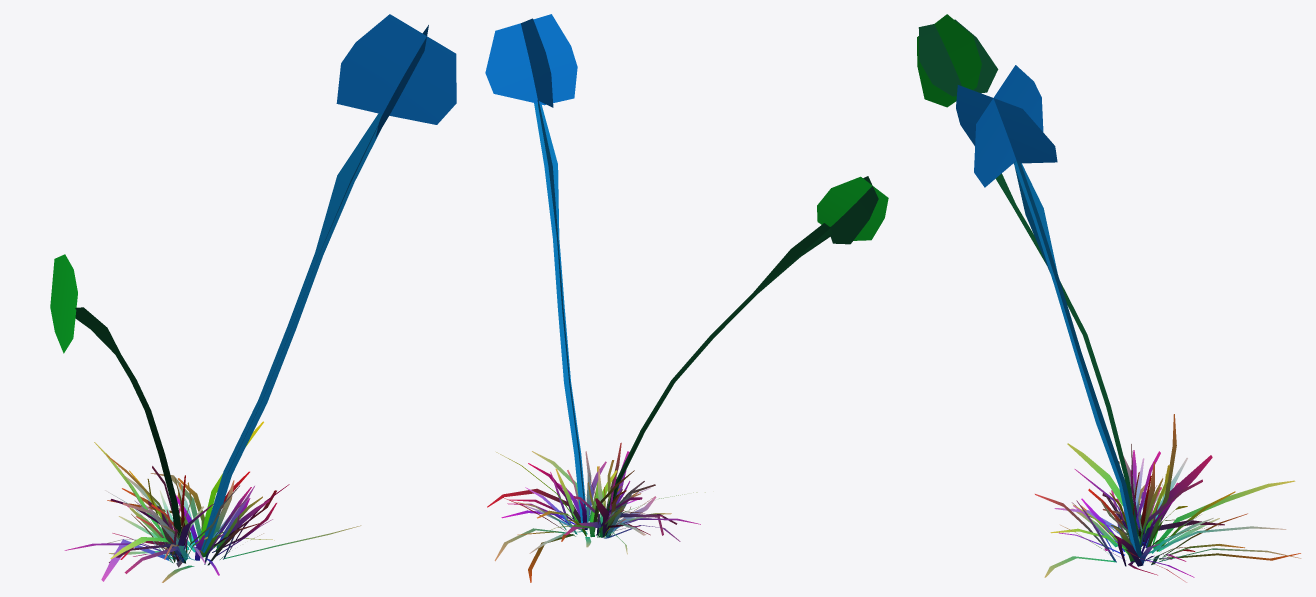
The model's file is Sea_Thrift_vkbgaihha_Mid_vkbgaihha_VarH_LOD1.fbx.
3 renders of one model, left to right at view 1: azimuth 30°, elevation 25°; view 2: azimuth 150°, elevation 25°; view 3: azimuth 270°, elevation 25°, orthographic. The views are drawn at different scales.
Visible parts, largest first — view 1: _t6h8_VarH_LOD2; view 2: _t6h8_VarH_LOD2; view 3: _t6h8_VarH_LOD2.
Part boxes in pixels (x1=…): _t6h8_VarH_LOD2: x1=50, y1=14, x2=456, y2=582; _t6h8_VarH_LOD2: x1=485, y1=14, x2=888, y2=582; _t6h8_VarH_LOD2: x1=917, y1=14, x2=1301, y2=582.
Bounding box in the file's own units: 11.48 × 13.86 × 8.64.
